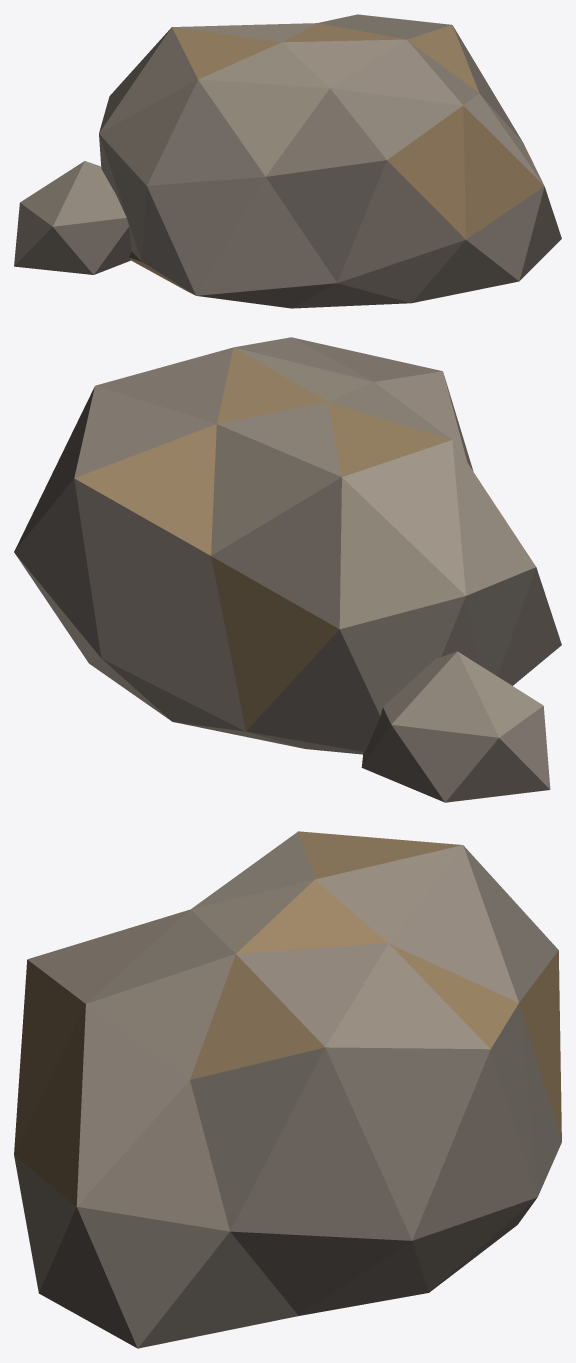
The model's file is rock_b.glb.
3 renders of one model, top to bottom at view 1: azimuth 30°, elevation 25°; view 2: azimuth 150°, elevation 25°; view 3: azimuth 270°, elevation 25°, orthographic. The views are drawn at different scales.
Parts seen in each view (by area): view 1: rock_b; view 2: rock_b; view 3: rock_b.
Boxes of the visible parts, <box> form: rock_b: <box>14,14,561,308</box>; rock_b: <box>14,337,561,802</box>; rock_b: <box>14,831,561,1348</box>.
Size of the model in its own units: 0.6627 by 0.298 by 0.4796.
